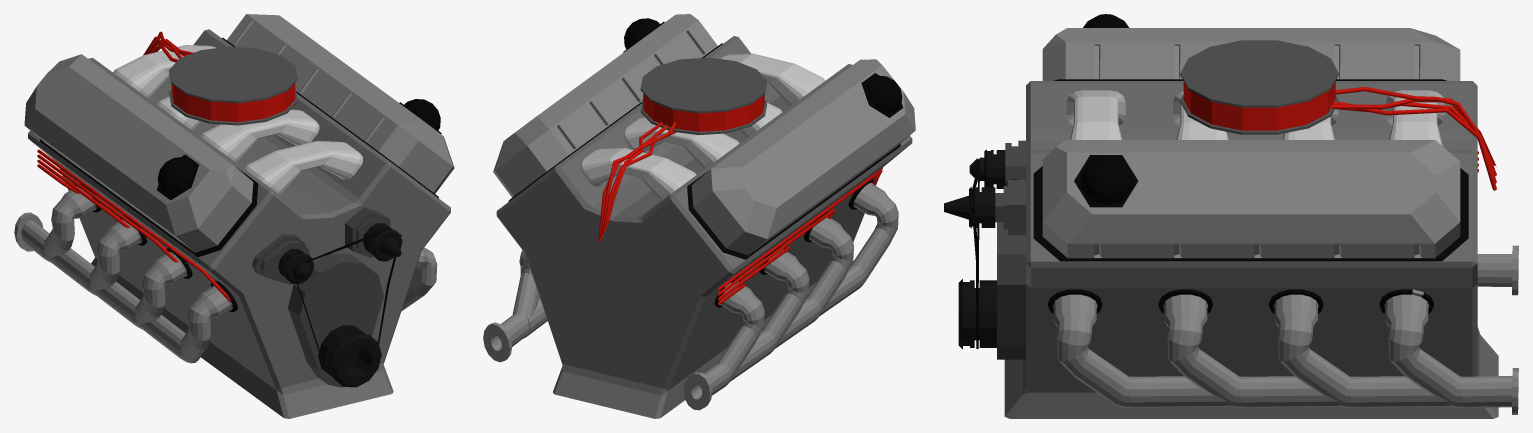
The model's file is Motor v3.fbx.
The picture shows the model from 3 angles, left to right: view 1: azimuth 30°, elevation 25°; view 2: azimuth 150°, elevation 25°; view 3: azimuth 270°, elevation 25°; orthographic projection. The views are drawn at different scales.
Parts seen in each view (by area): view 1: Cylinder.001, Cylinder.002, Cylinder.005, Cylinder.008, Cube, Cylinder.004, Cylinder.007, BezierCurve.003, Cylinder.012; view 2: Cylinder.001, Cylinder.002, Cylinder.005, Cylinder.004, Cube, BezierCurve.003; view 3: Cylinder.002, Cylinder.001, Cylinder.005, Cylinder.004, Cube, Cylinder.008, Cylinder.007, BezierCurve.003, Cylinder.012.
Part boxes in pixels (box(x1,y1,x2,y2)): Cylinder.001: box(28, 29, 450, 418); Cylinder.002: box(24, 14, 454, 257); Cylinder.005: box(14, 181, 437, 363); Cylinder.008: box(252, 207, 390, 387); Cube: box(113, 45, 362, 194); Cylinder.004: box(169, 46, 297, 125); Cylinder.007: box(278, 223, 402, 387); BezierCurve.003: box(37, 31, 231, 302); Cylinder.012: box(294, 228, 401, 371); Cylinder.001: box(496, 36, 912, 418); Cylinder.002: box(493, 14, 915, 259); Cylinder.005: box(483, 179, 898, 410); Cylinder.004: box(640, 57, 766, 134); Cube: box(579, 53, 825, 201); BezierCurve.003: box(598, 122, 882, 305); Cylinder.002: box(1033, 14, 1468, 261); Cylinder.001: box(1004, 81, 1498, 418); Cylinder.005: box(1048, 245, 1518, 414); Cylinder.004: box(1180, 40, 1338, 134); Cube: box(1066, 90, 1444, 146); Cylinder.008: box(995, 140, 1025, 359); Cylinder.007: box(944, 149, 1005, 349); BezierCurve.003: box(1330, 87, 1496, 190); Cylinder.012: box(972, 159, 979, 348).
Size of the model in its own units: 179 by 157 by 263.
